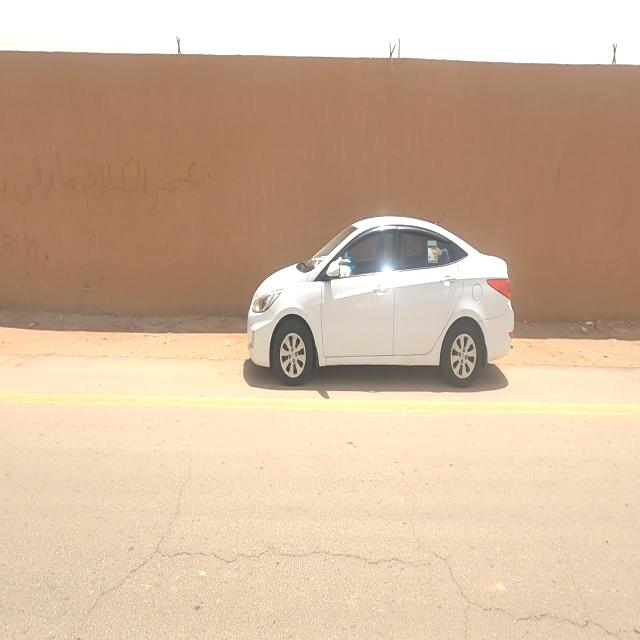debris: (0, 62, 297, 292)
